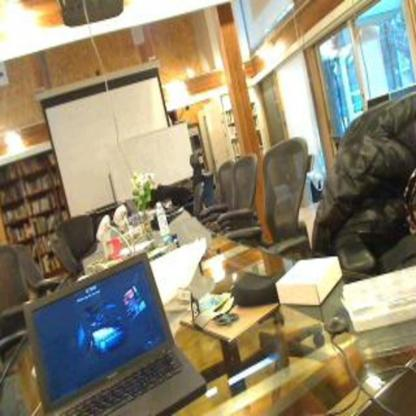board: (26, 244, 207, 416), (156, 202, 173, 248)
